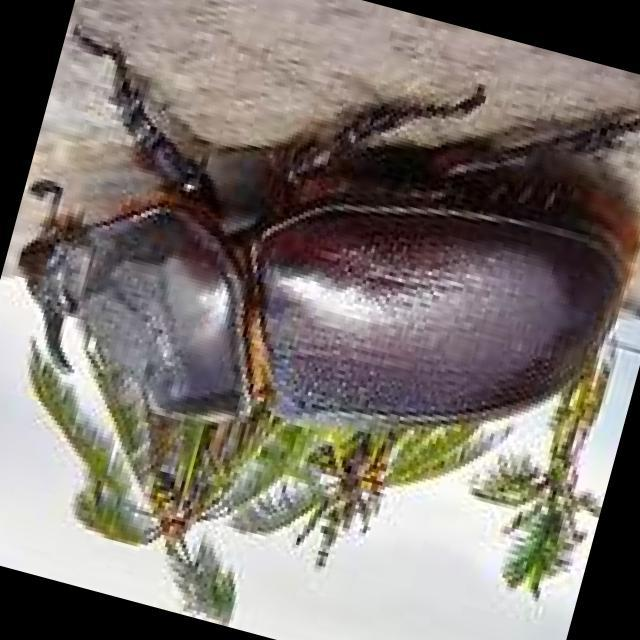Rhino-beetle: (5, 109, 640, 471)
